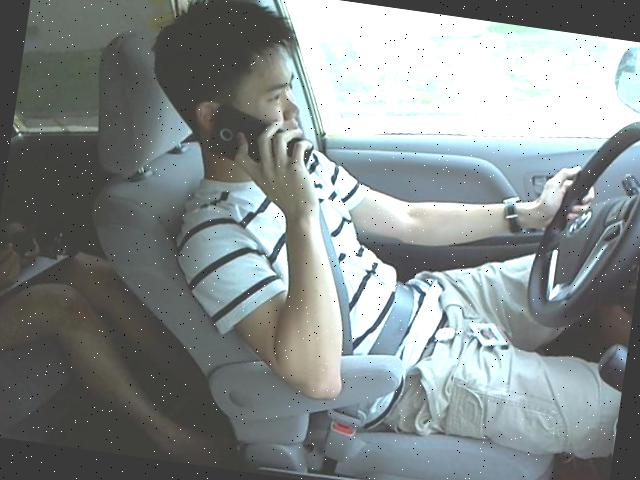c2 - Talking on the phone: (100, 0, 639, 451)
